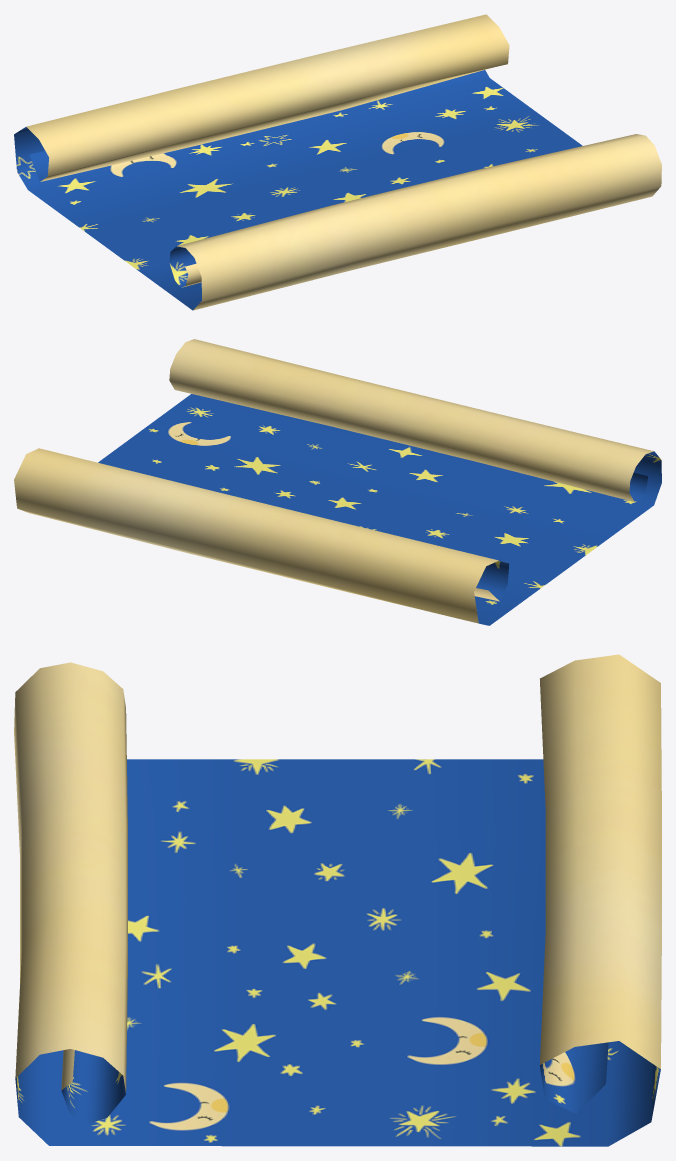
The model's file is 155_unrolled_paper.glb.
3 renders of one model, top to bottom at view 1: azimuth 30°, elevation 25°; view 2: azimuth 150°, elevation 25°; view 3: azimuth 270°, elevation 25°, orthographic. The views are drawn at different scales.
Parts seen in each view (by area): view 1: 01ext, 01; view 2: 01ext, 01; view 3: 01, 01ext.
Part boxes in pixels (x1,y1,x2,y2): 01ext: [26, 14, 661, 310]; 01: [14, 70, 582, 310]; 01ext: [14, 339, 653, 623]; 01: [98, 394, 661, 625]; 01: [15, 759, 660, 1146]; 01ext: [14, 654, 661, 1092].
Size of the model in its own units: 1.69 by 0.2174 by 1.19.
2 materials, 2 textured.
